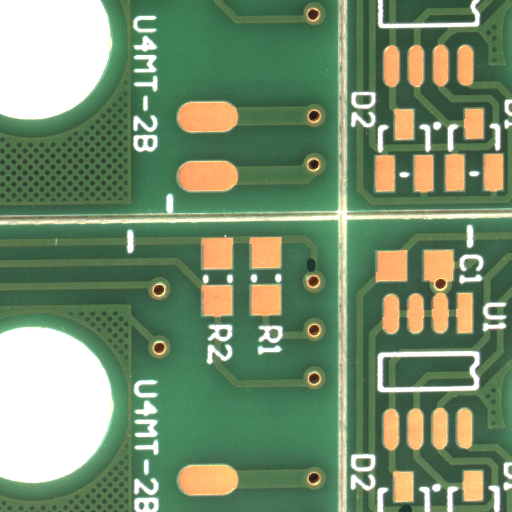Mouse_bite: (310, 265, 318, 280), (404, 507, 417, 512)
